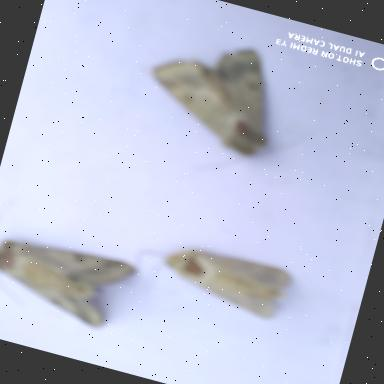abw: (128, 24, 314, 191), (0, 227, 139, 337), (130, 234, 294, 326)
